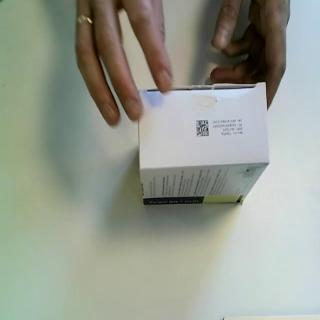fentanyl50ug_ml: (138, 81, 272, 207)
